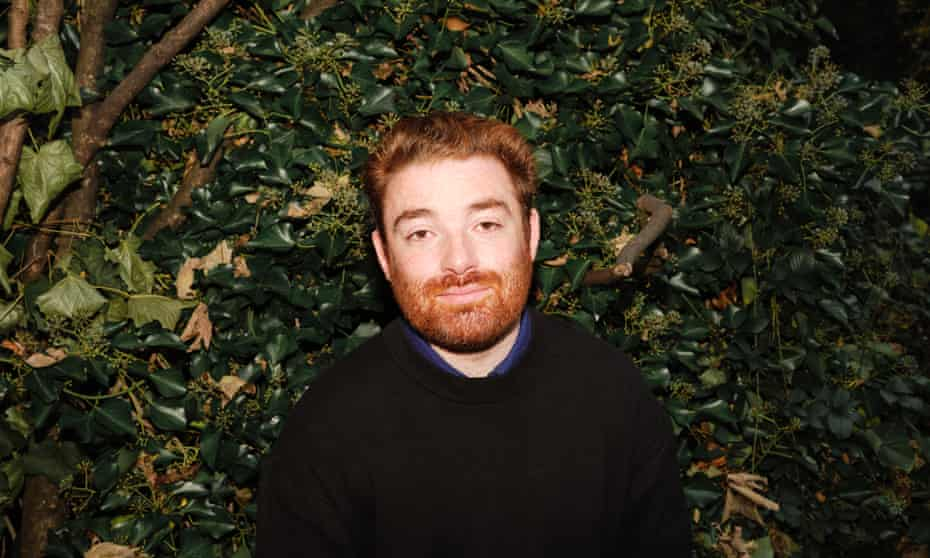person: (286, 117, 700, 552)
